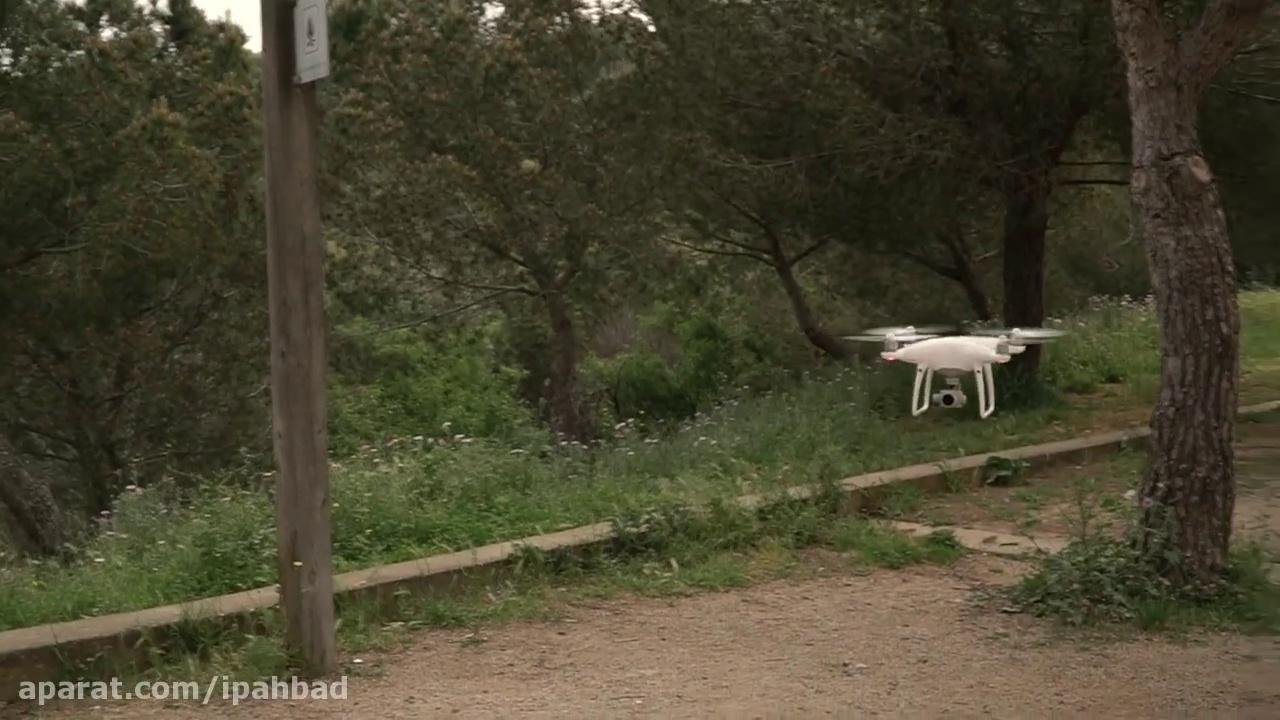drone: (834, 321, 1074, 418)
